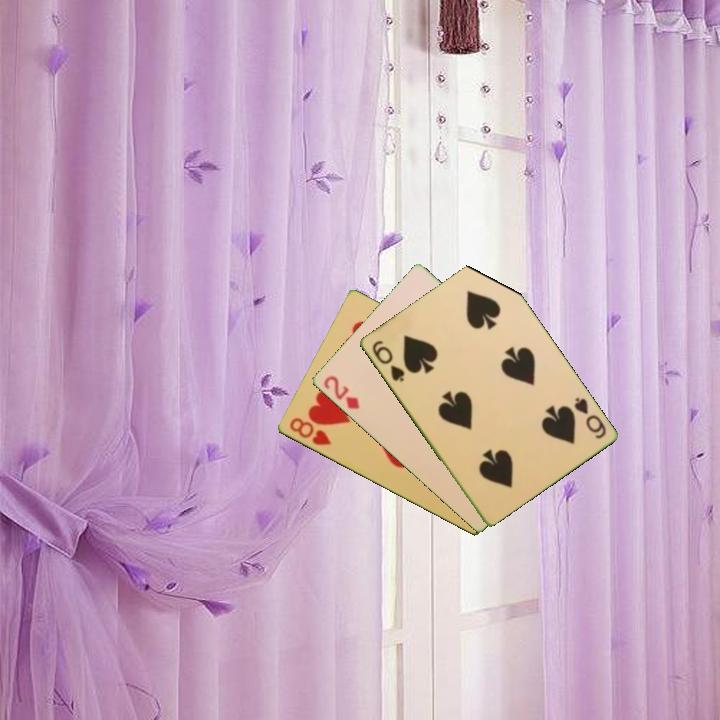2d: (319, 372, 362, 412)
6s: (570, 393, 609, 442), (368, 337, 407, 385)
8h: (286, 414, 334, 449)
